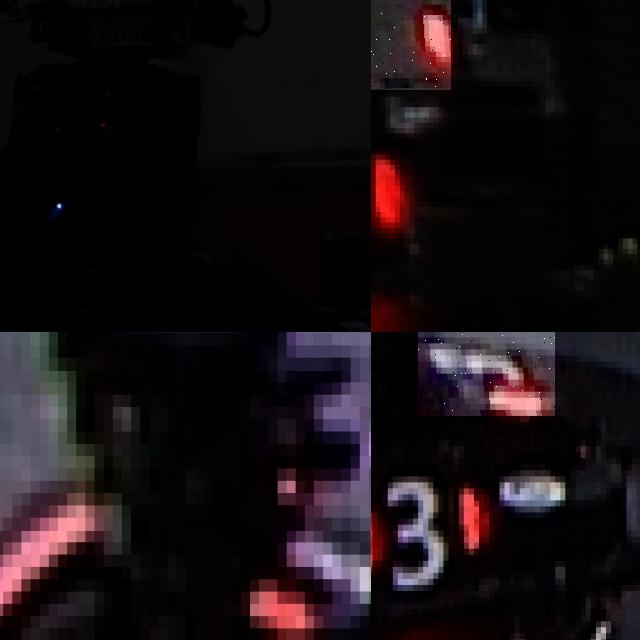R3: (371, 464, 484, 591), (418, 332, 555, 415), (371, 0, 450, 91), (371, 115, 414, 256)
